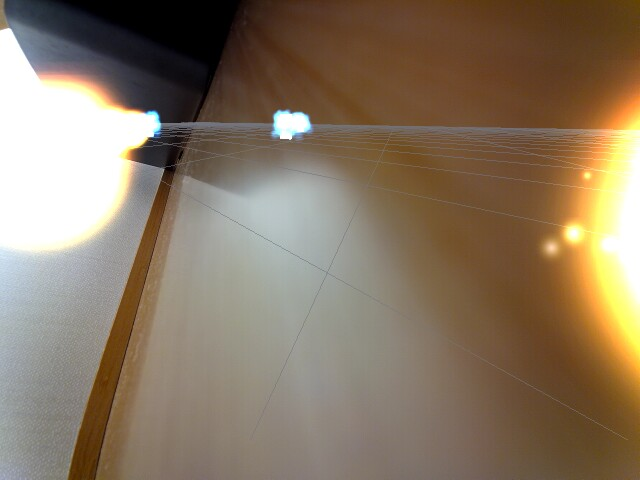fire: (2, 67, 151, 266), (582, 100, 640, 377)
